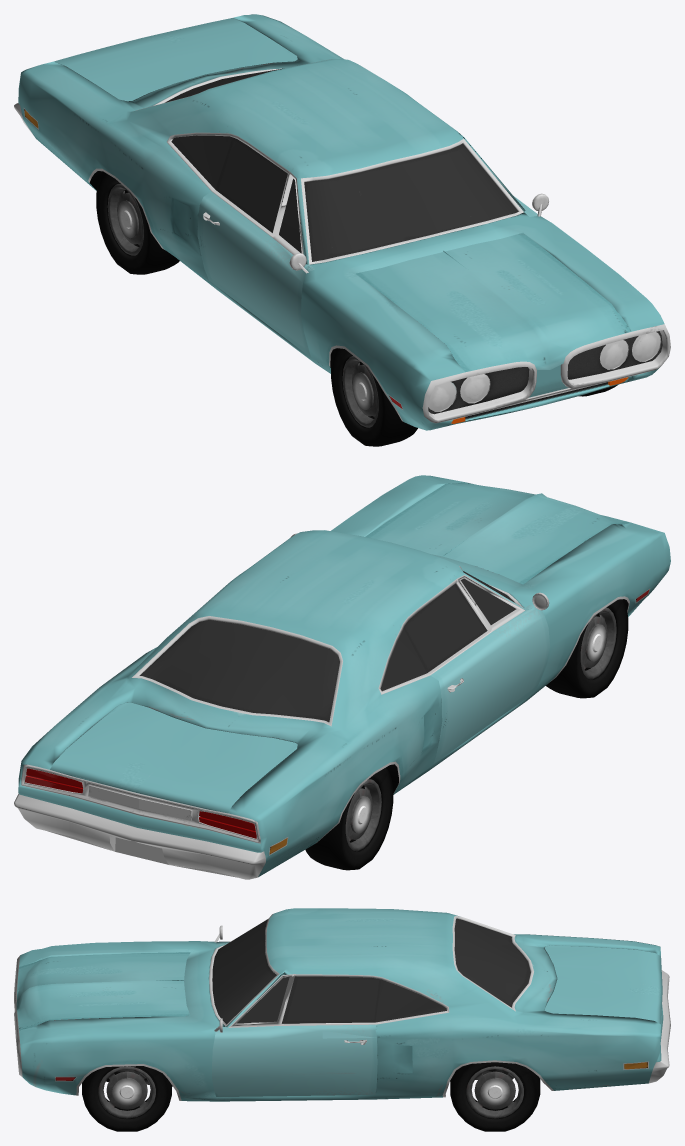
Rendered from DodgeCoronetMesh.fbx.
3 views of the same model, one above another, from view 1: azimuth 30°, elevation 25°; view 2: azimuth 150°, elevation 25°; view 3: azimuth 270°, elevation 25° (orthographic). The views are drawn at different scales.
Parts seen in each view (by area): view 1: polySurface69; view 2: polySurface69; view 3: polySurface69.
Boxes of the visible parts, <box> form: polySurface69: <box>14,14,670,446</box>; polySurface69: <box>14,475,670,879</box>; polySurface69: <box>14,908,670,1131</box>.
Size of the model in its own units: 27.22 by 19.63 by 75.93.
